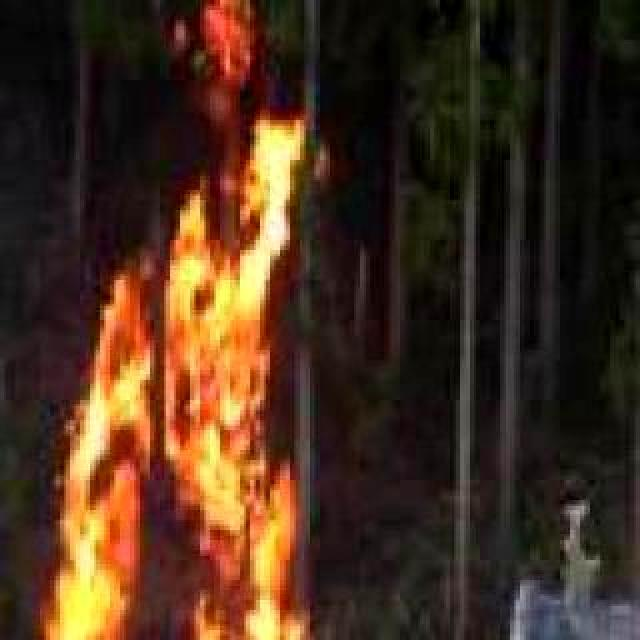fire: (12, 0, 324, 640)
